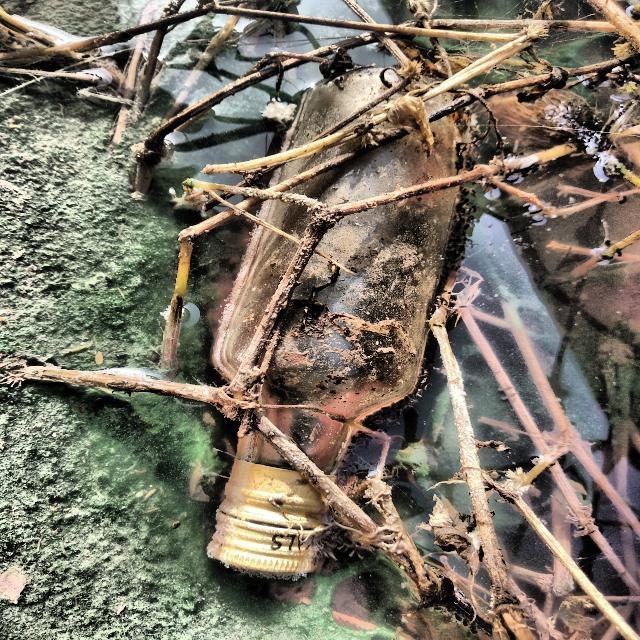anorganik: (206, 55, 496, 581)
